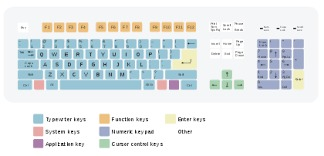keyboard: (3, 15, 317, 98)
